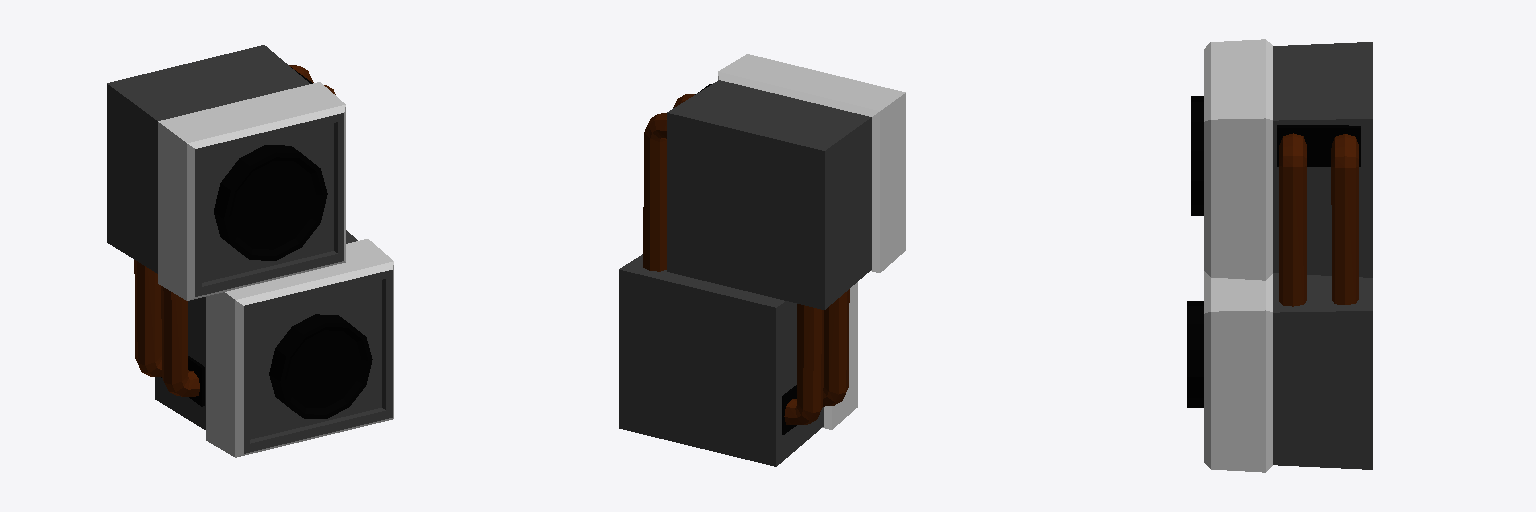
Rendered from AC_Stacked.obj.
3 renders of one model, left to right at view 1: azimuth 30°, elevation 25°; view 2: azimuth 150°, elevation 25°; view 3: azimuth 270°, elevation 25°, orthographic.
Parts seen in each view (by area): view 1: AC_Stacked_Cube.026; view 2: AC_Stacked_Cube.026; view 3: AC_Stacked_Cube.026.
Part boxes in pixels (left/top/right/bottom): AC_Stacked_Cube.026: left=107, top=45, right=393, bottom=457; AC_Stacked_Cube.026: left=619, top=54, right=905, bottom=466; AC_Stacked_Cube.026: left=1187, top=39, right=1372, bottom=472.
Bounding box in the file's own units: 0.6701 × 1.01 × 0.5115.